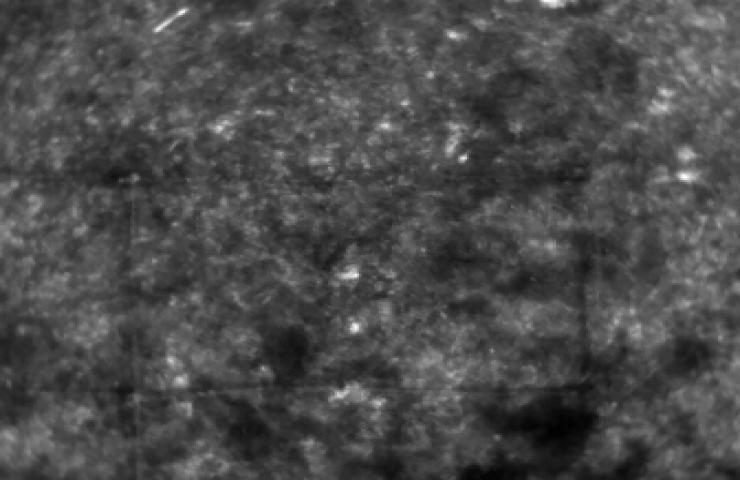landmines: (340, 264, 364, 284)
